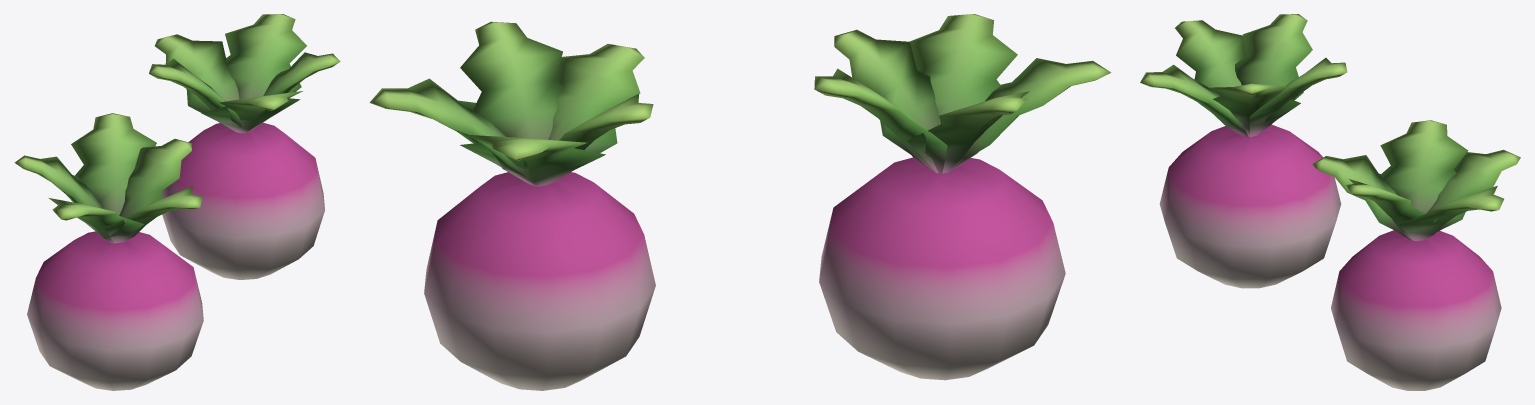
File: prop-crop-turnip-ripe.glb
3 renders of one model, left to right at view 1: azimuth 30°, elevation 25°; view 2: azimuth 150°, elevation 25°; view 3: azimuth 270°, elevation 25°, orthographic. The views are drawn at different scales.
Visible parts, largest first — view 1: body, leaf; view 2: body, leaf; view 3: body, leaf.
Boxes of the visible parts, left/top/right/bottom form: body: left=27, top=122, right=324, bottom=390; leaf: left=14, top=14, right=340, bottom=243; body: left=424, top=157, right=1065, bottom=390; leaf: left=369, top=14, right=1111, bottom=186; body: left=1159, top=124, right=1501, bottom=390; leaf: left=1140, top=14, right=1520, bottom=240.
Size of the model in its own units: 0.6752 by 0.3876 by 0.5746.
